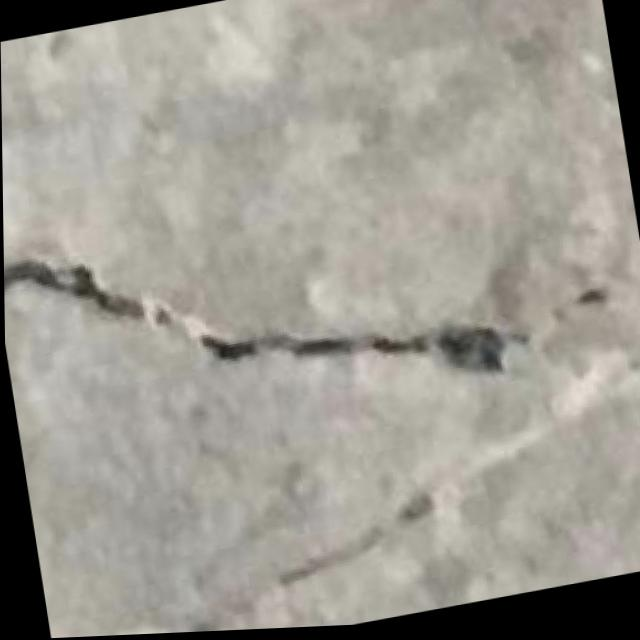Crack: (2, 176, 501, 459), (171, 489, 452, 634)
